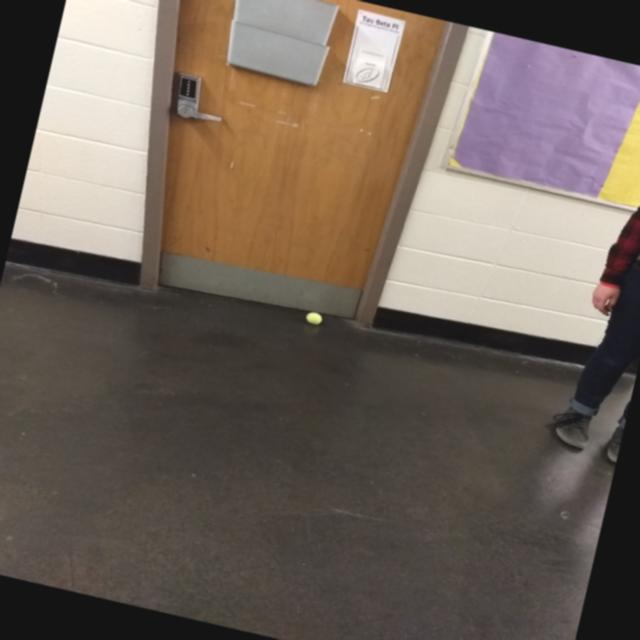tennis-ball: (305, 310, 323, 324)
